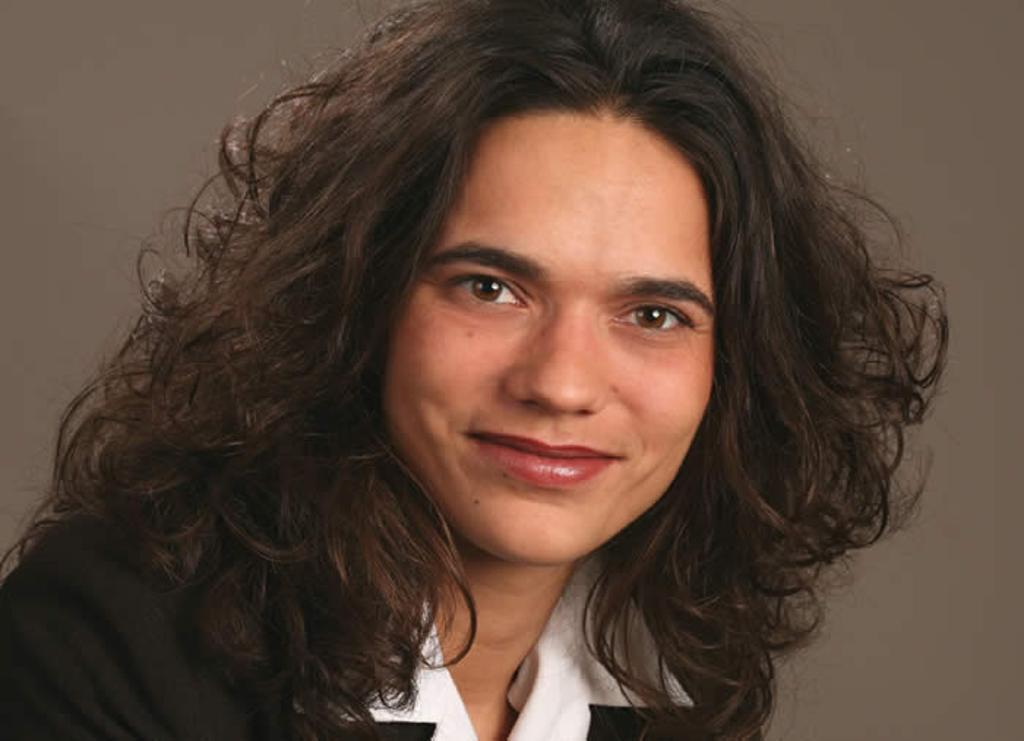face: (381, 103, 717, 565)
